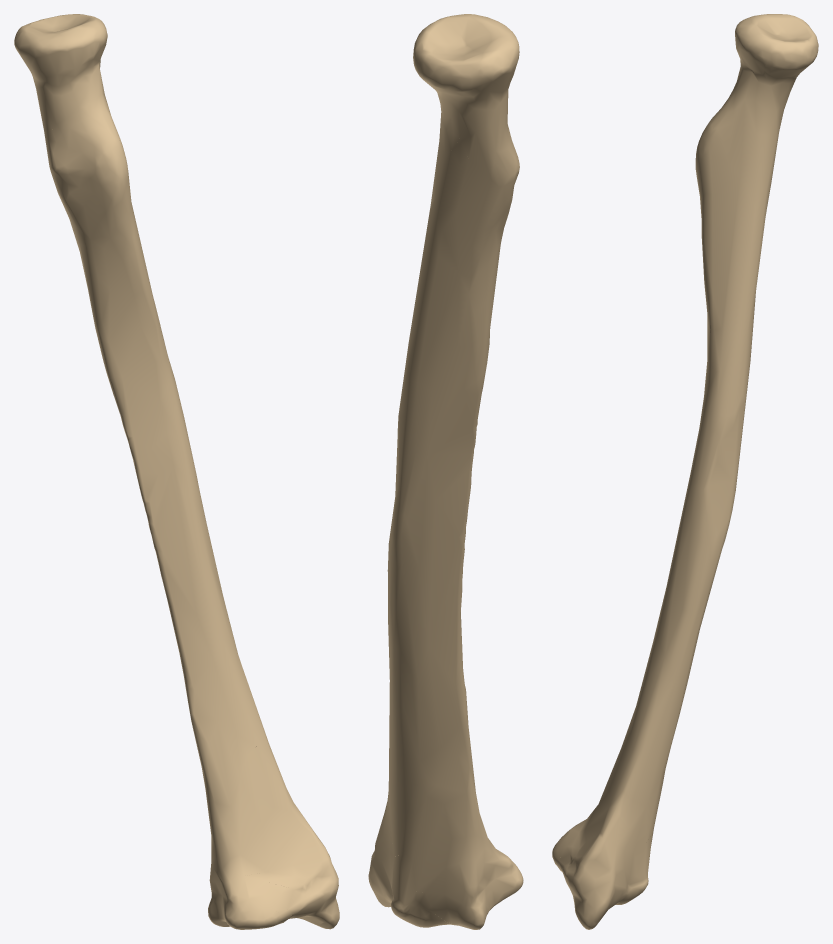
File: explorar-radius.glb
3 renders of one model, left to right at view 1: azimuth 30°, elevation 25°; view 2: azimuth 150°, elevation 25°; view 3: azimuth 270°, elevation 25°, orthographic. The views are drawn at different scales.
Parts seen in each view (by area): view 1: radius_left__cuerpo, radius_left__base, radius_left__cabeza, radius_left__estiloides; view 2: radius_left__cuerpo, radius_left__base, radius_left__cabeza, radius_left__estiloides; view 3: radius_left__cuerpo, radius_left__base, radius_left__estiloides, radius_left__cabeza.
Boxes of the visible parts, x1,y1,x2,y2 form: radius_left__cuerpo: (49, 167, 268, 758); radius_left__base: (44, 128, 292, 929); radius_left__cabeza: (14, 14, 119, 156); radius_left__estiloides: (245, 746, 339, 929); radius_left__cuerpo: (387, 152, 519, 791); radius_left__base: (388, 121, 523, 929); radius_left__cabeza: (413, 14, 519, 179); radius_left__estiloides: (368, 791, 450, 927); radius_left__cuerpo: (627, 133, 778, 748); radius_left__base: (552, 99, 783, 870); radius_left__estiloides: (554, 736, 651, 929); radius_left__cabeza: (710, 14, 818, 135).
Bounding box in the file's own units: 0.0599 × 0.2293 × 0.0666.
